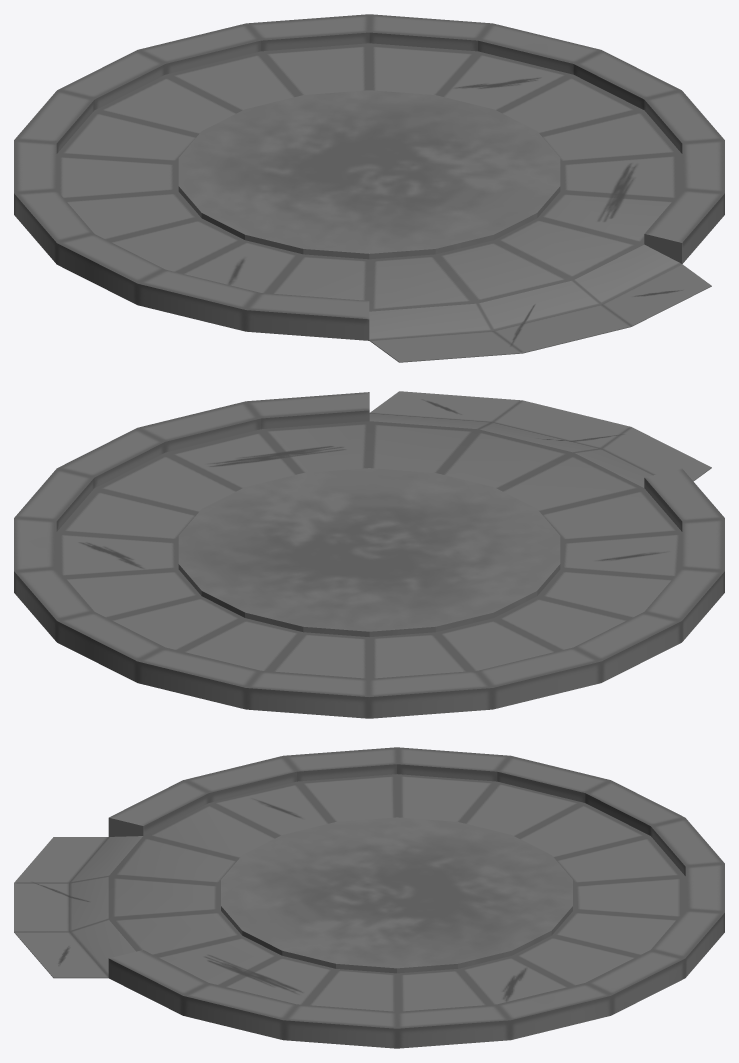
Rendered from Portal_floor.fbx.
3 renders of one model, top to bottom at view 1: azimuth 30°, elevation 25°; view 2: azimuth 150°, elevation 25°; view 3: azimuth 270°, elevation 25°, orthographic. The views are drawn at different scales.
Visible parts, largest first — view 1: Cylinder001; view 2: Cylinder001; view 3: Cylinder001.
Part boxes in pixels (bbox=[...]): Cylinder001: bbox=[14, 14, 724, 362]; Cylinder001: bbox=[14, 391, 724, 718]; Cylinder001: bbox=[14, 747, 724, 1048].
Bounding box in the file's own units: 236 × 7.81 × 252.
1 material, 1 textured.
